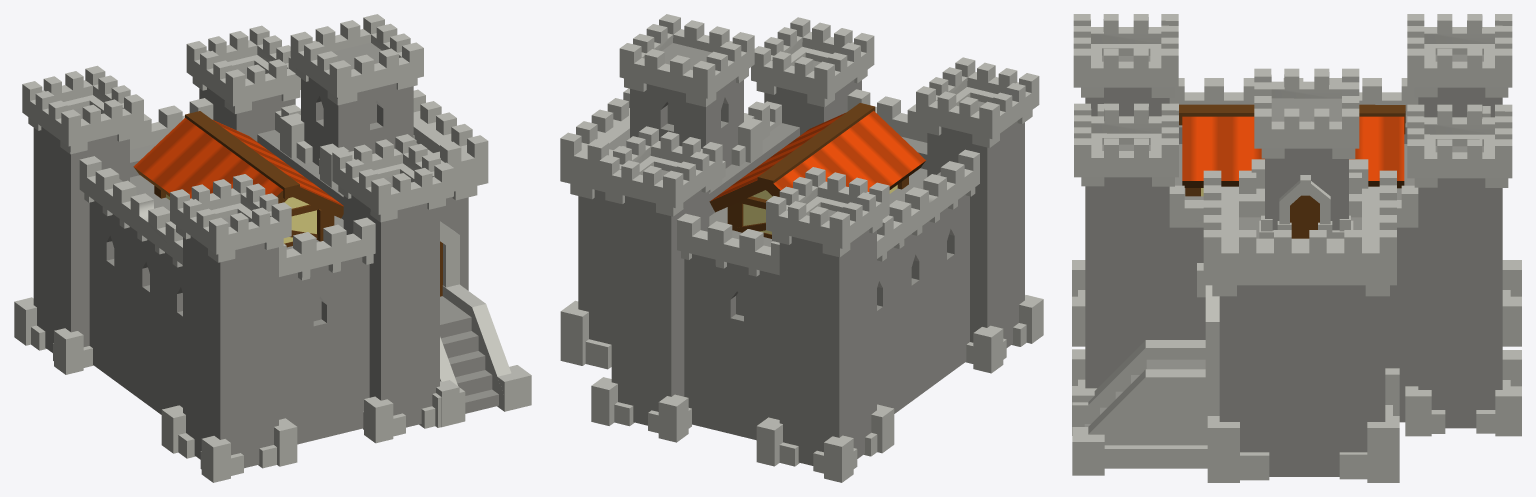
The model's file is MediumKeep.fbx.
The picture shows the model from 3 angles, left to right: view 1: azimuth 30°, elevation 25°; view 2: azimuth 150°, elevation 25°; view 3: azimuth 270°, elevation 25°; orthographic projection. The views are drawn at different scales.
Visible parts, largest first — view 1: polySurface1; view 2: polySurface1; view 3: polySurface1.
Part boxes in pixels (<box>): polySurface1: <box>14,14,531,482</box>; polySurface1: <box>560,14,1043,482</box>; polySurface1: <box>1072,14,1521,482</box>.
Bounding box in the file's own units: 247 × 216 × 256.
1 material, 1 textured.
